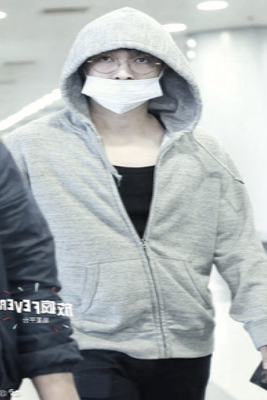mask_weared_incorrect: (80, 50, 167, 114)
